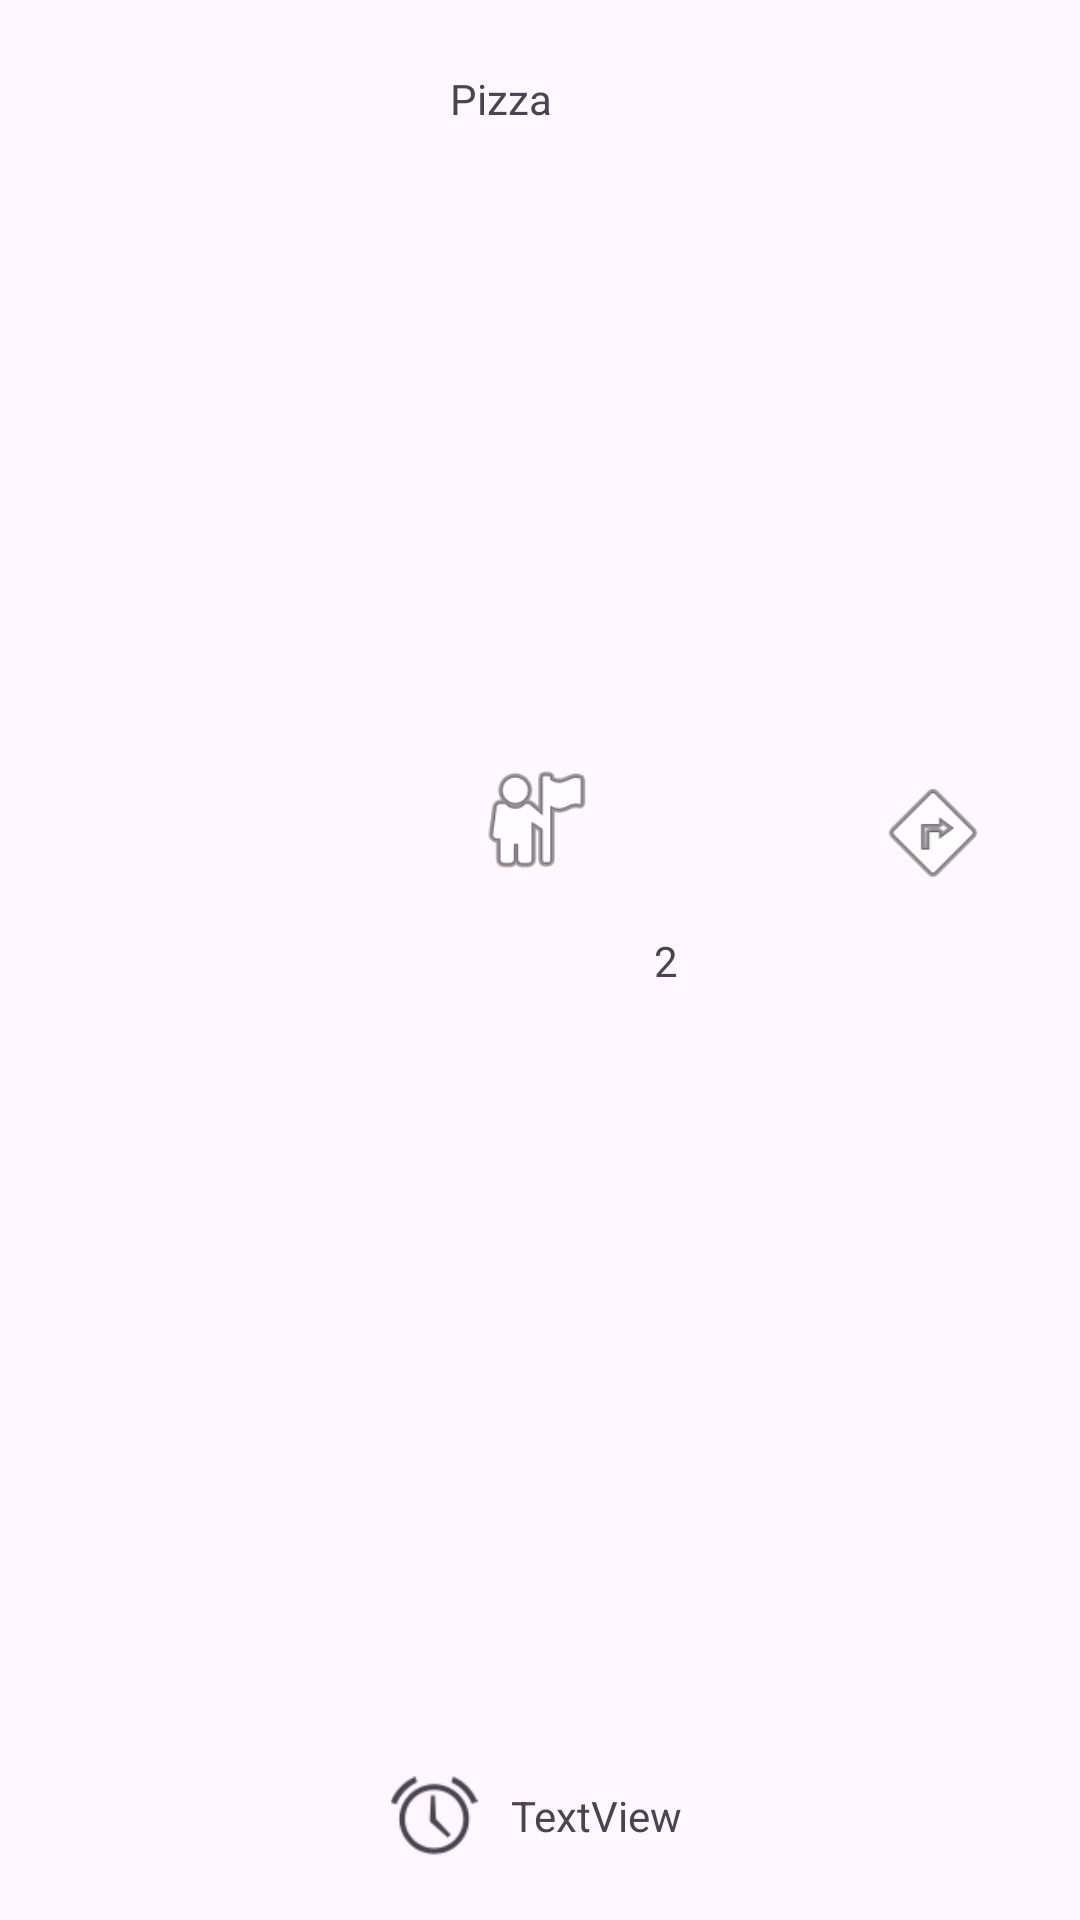

Icon click points for this 1080px x 1920px phone screenshot, format point (x, y):
directions: point (933, 833)
lock idle alarm: point (434, 1815)
myplaces: point (536, 819)
